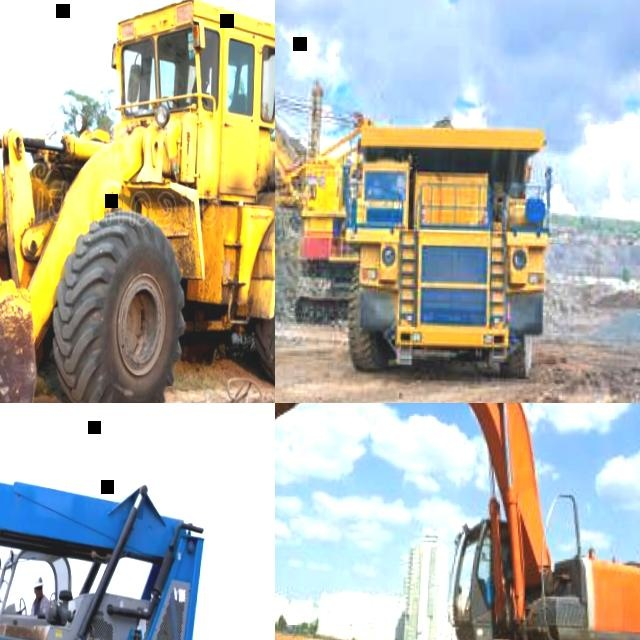Hardhat: (31, 573, 45, 588)
NO-Mask: (35, 590, 42, 597)
NO-Safety Vest: (30, 595, 48, 616)
Person: (30, 573, 50, 616)
machinery: (0, 0, 275, 403), (275, 403, 640, 640), (341, 110, 551, 377), (0, 448, 207, 640), (275, 75, 369, 326)
